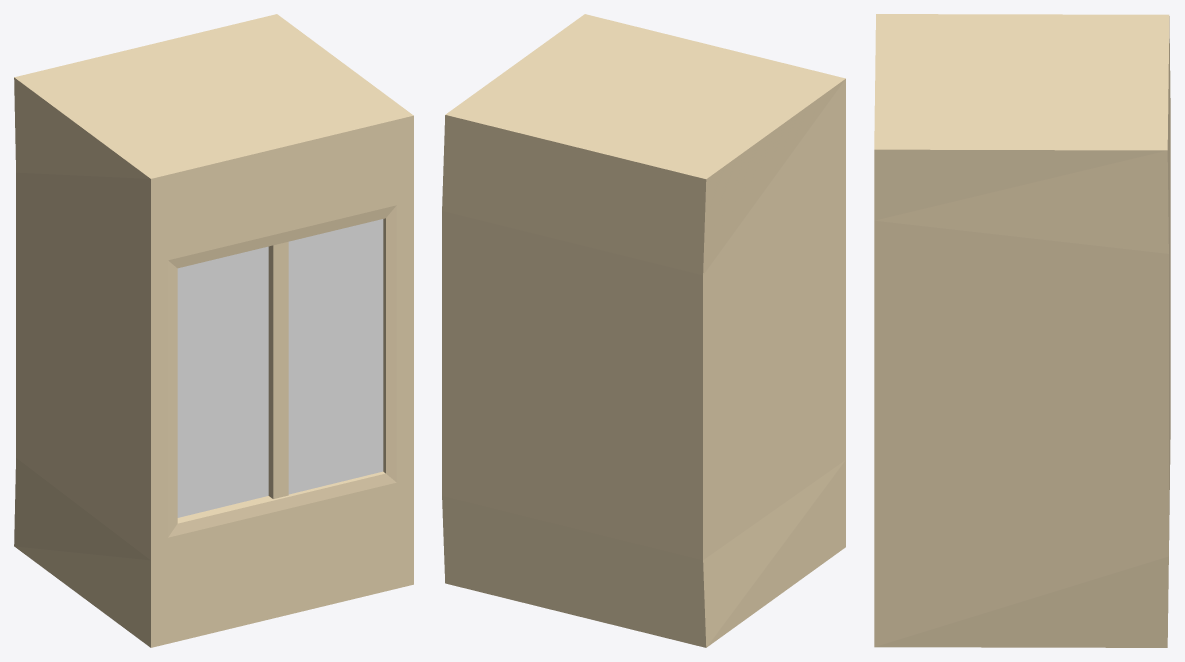
Rendered from Fridge.fbx.
3 views of the same model, side by side, from view 1: azimuth 30°, elevation 25°; view 2: azimuth 150°, elevation 25°; view 3: azimuth 270°, elevation 25° (orthographic). The views are drawn at different scales.
Parts seen in each view (by area): view 1: Fridge, FridgeDoor_R, FridgeDoor_L; view 2: Fridge; view 3: Fridge.
Part boxes in pixels (x1,y1,x2,y2): Fridge: (14, 14, 413, 647); FridgeDoor_R: (288, 219, 383, 494); FridgeDoor_L: (177, 246, 268, 517); Fridge: (442, 14, 845, 647); Fridge: (874, 14, 1170, 647).
Size of the model in its own units: 24.04 by 40.47 by 21.86.
